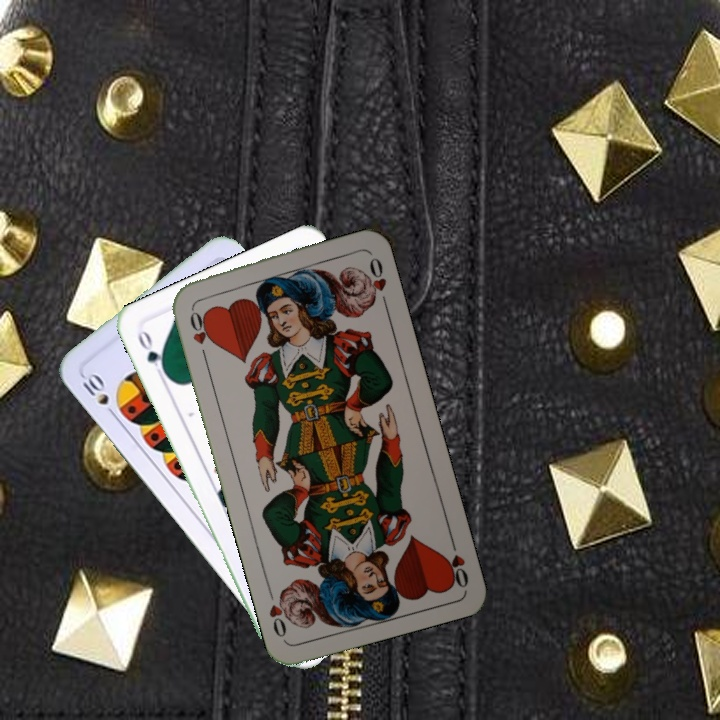GO: (133, 326, 170, 382)
HO: (185, 303, 216, 362), (440, 532, 471, 591)
S10: (78, 368, 120, 421)
